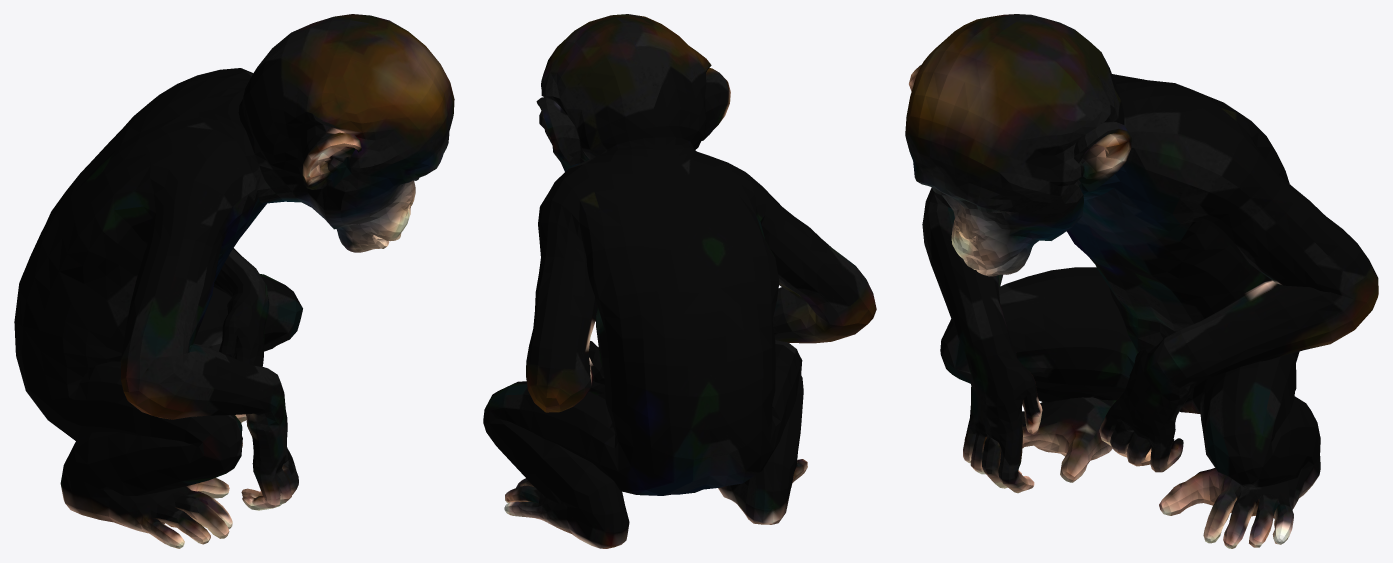
File: chimpanzee.mesh.glb
The picture shows the model from 3 angles, left to right: view 1: azimuth 30°, elevation 25°; view 2: azimuth 150°, elevation 25°; view 3: azimuth 270°, elevation 25°; orthographic projection. The views are drawn at different scales.
Visible parts, largest first — view 1: root; view 2: root; view 3: root.
Part boxes in pixels (box(x1,y1,x2,y2)): root: box(14, 14, 454, 548); root: box(483, 14, 876, 548); root: box(905, 14, 1378, 548).
Size of the model in its own units: 0.3508 by 0.4635 by 0.3797.
Materials: 1 (1 with a texture image).
